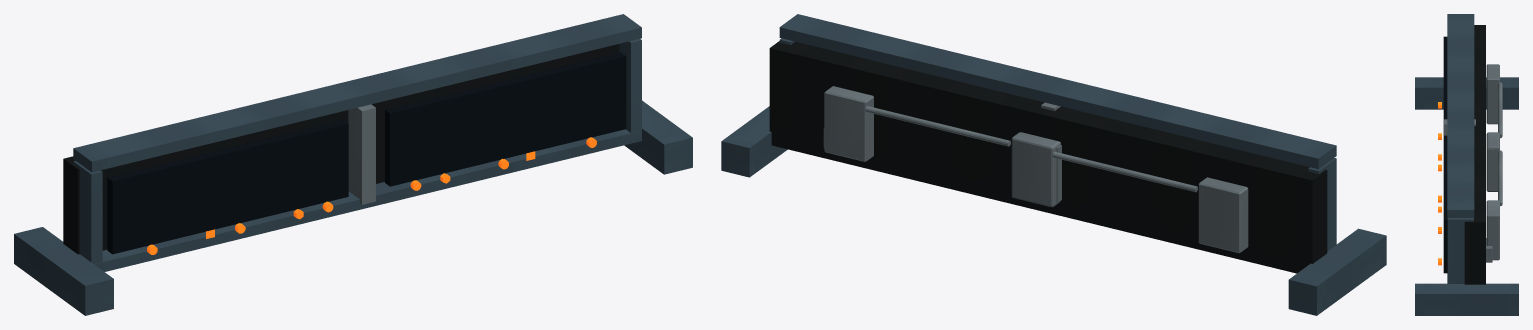
File: place_station_billboard.glb
The picture shows the model from 3 angles, left to right: view 1: azimuth 30°, elevation 25°; view 2: azimuth 150°, elevation 25°; view 3: azimuth 270°, elevation 25°; orthographic projection. The views are drawn at different scales.
Visible parts, largest first — view 1: LOD0_Display_Frame_Coat, LOD0_Display_Screen_Glass, LOD1_Display_Screen_Glass, LOD2_Display_Frame_Coat, LOD1_Display_Frame_Coat, LOD2_Display_Screen_Glass, LOD1_Display_Backplate, LOD0_Display_Backplate, LOD0_Display_Service_Alloy, LOD2_Display_Backplate, LOD1_Display_Service_Alloy, LOD2_Display_Service_Alloy (+1 smaller); view 2: LOD0_Display_Backplate, LOD0_Display_Frame_Coat, LOD2_Display_Backplate, LOD1_Display_Frame_Coat, LOD0_Display_Service_Alloy, LOD2_Display_Frame_Coat, LOD1_Display_Service_Alloy, LOD1_Display_Backplate; view 3: LOD0_Display_Frame_Coat, LOD1_Display_Frame_Coat, LOD2_Display_Frame_Coat, LOD0_Display_Backplate, LOD0_Display_Service_Alloy, LOD1_Display_Backplate, LOD2_Display_Backplate, LOD1_Display_Service_Alloy, LOD2_Display_Screen_Glass, LOD0_Display_Screen_Glass, LOD1_Display_Screen_Glass, LOD2_Display_Service_Alloy (+1 smaller).
Part boxes in pixels (x1,y1,x2,y2): LOD0_Display_Frame_Coat: (15,15,689,312); LOD0_Display_Screen_Glass: (108,53,623,251); LOD1_Display_Screen_Glass: (108,53,625,253); LOD2_Display_Frame_Coat: (14,14,692,315); LOD1_Display_Frame_Coat: (15,15,690,313); LOD2_Display_Screen_Glass: (107,52,626,254); LOD1_Display_Backplate: (64,44,619,253); LOD0_Display_Backplate: (64,118,335,253); LOD0_Display_Service_Alloy: (348,105,374,202); LOD2_Display_Backplate: (63,71,508,254); LOD1_Display_Service_Alloy: (356,107,375,203); LOD2_Display_Service_Alloy: (356,104,375,204); LOD0_Display_Backplate: (772,41,1325,271); LOD0_Display_Frame_Coat: (724,15,1384,312); LOD2_Display_Backplate: (769,41,1327,273); LOD1_Display_Frame_Coat: (723,14,1385,313); LOD0_Display_Service_Alloy: (825,86,1247,251); LOD2_Display_Frame_Coat: (721,14,1386,315); LOD1_Display_Service_Alloy: (823,86,1248,253); LOD1_Display_Backplate: (771,42,1326,272); LOD0_Display_Frame_Coat: (1417,14,1516,313); LOD1_Display_Frame_Coat: (1416,14,1517,314); LOD2_Display_Frame_Coat: (1415,14,1518,315); LOD0_Display_Backplate: (1466,25,1483,284); LOD0_Display_Service_Alloy: (1445,64,1502,261); LOD1_Display_Backplate: (1465,25,1484,284); LOD2_Display_Backplate: (1464,25,1485,284); LOD1_Display_Service_Alloy: (1445,64,1502,262); LOD2_Display_Screen_Glass: (1443,36,1447,273); LOD0_Display_Screen_Glass: (1445,37,1447,271); LOD1_Display_Screen_Glass: (1444,37,1447,272); LOD2_Display_Service_Alloy: (1444,119,1494,190).
Size of the model in its own units: 14.8 by 3.05 by 3.
5 materials, 5 textured.
